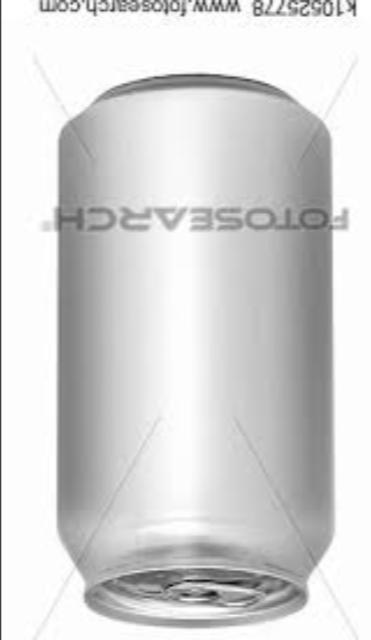metal: (63, 81, 334, 631)
